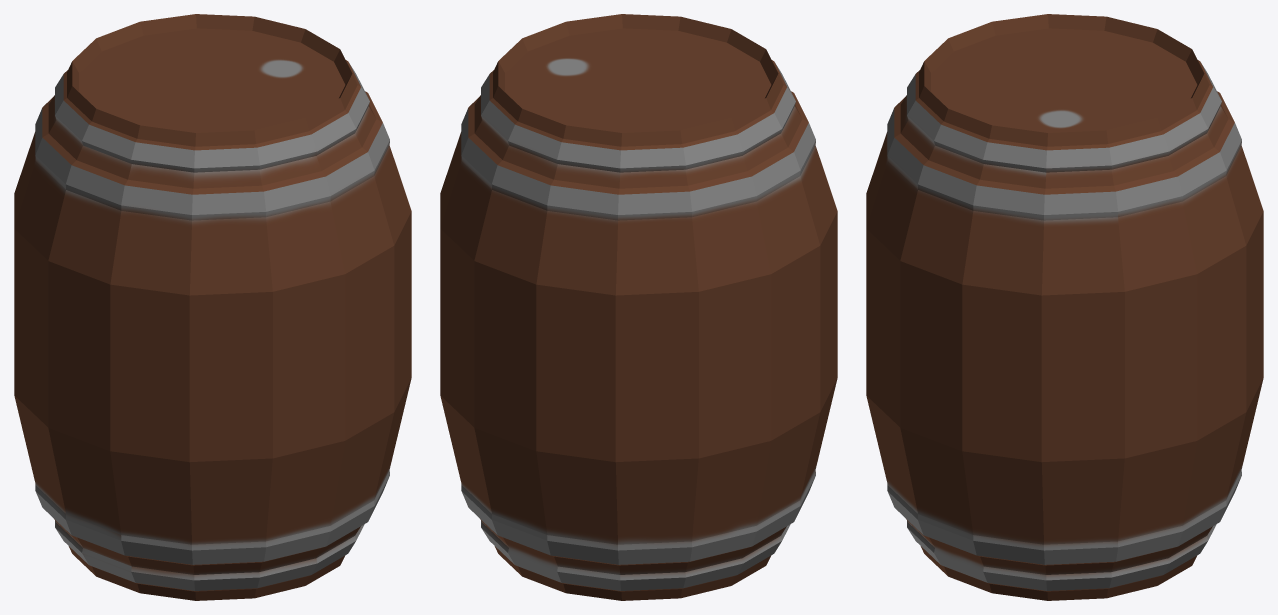
Rendered from barrel.glb.
3 views of the same model, side by side, from view 1: azimuth 30°, elevation 25°; view 2: azimuth 150°, elevation 25°; view 3: azimuth 270°, elevation 25° (orthographic).
Visible parts, largest first — view 1: Cylinder; view 2: Cylinder; view 3: Cylinder.
Part boxes in pixels (x1=…): Cylinder: x1=14, y1=14, x2=411, y2=600; Cylinder: x1=440, y1=14, x2=837, y2=600; Cylinder: x1=866, y1=14, x2=1263, y2=600.
Size of the model in its own units: 2.23 by 2.89 by 2.22.
Materials: 1 (1 with a texture image).
